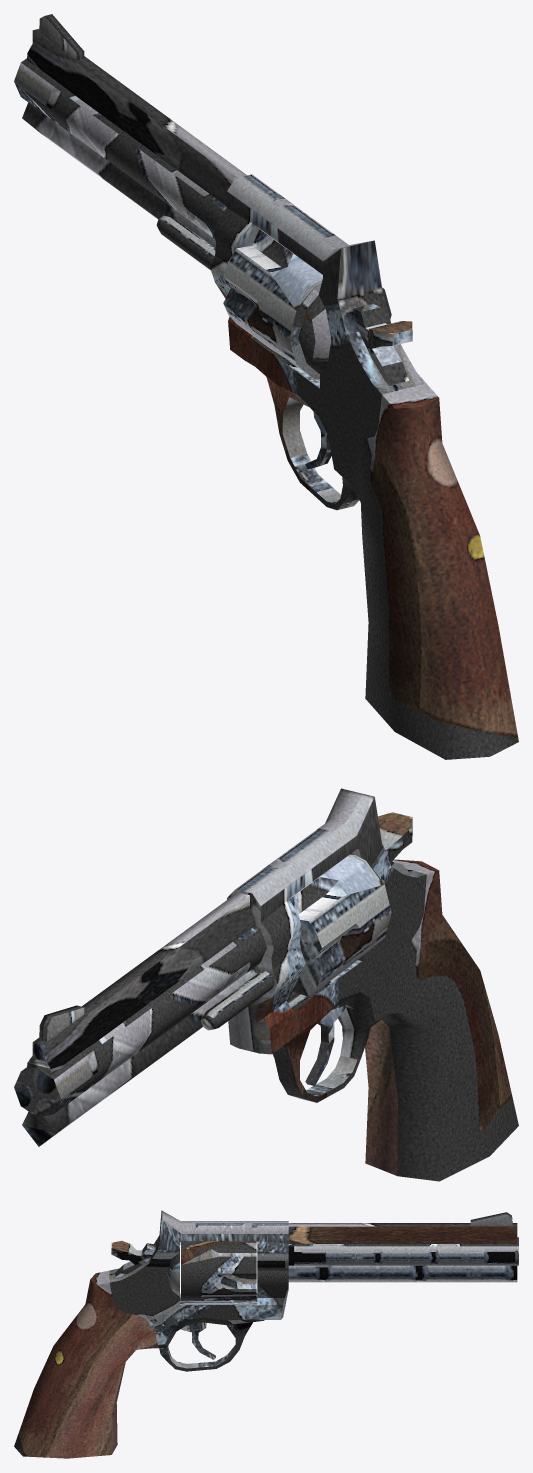
Rendered from Python.fbx.
3 views of the same model, one above another, from view 1: azimuth 30°, elevation 25°; view 2: azimuth 150°, elevation 25°; view 3: azimuth 270°, elevation 25° (orthographic). The views are drawn at different scales.
Parts seen in each view (by area): view 1: Python; view 2: Python; view 3: Python.
Boxes of the visible parts, x1=… form: Python: x1=14, y1=14, x2=518, y2=759; Python: x1=14, y1=788, x2=518, y2=1181; Python: x1=14, y1=1210, x2=518, y2=1458.
Size of the model in its own units: 0.1625 by 0.6356 by 1.25.
